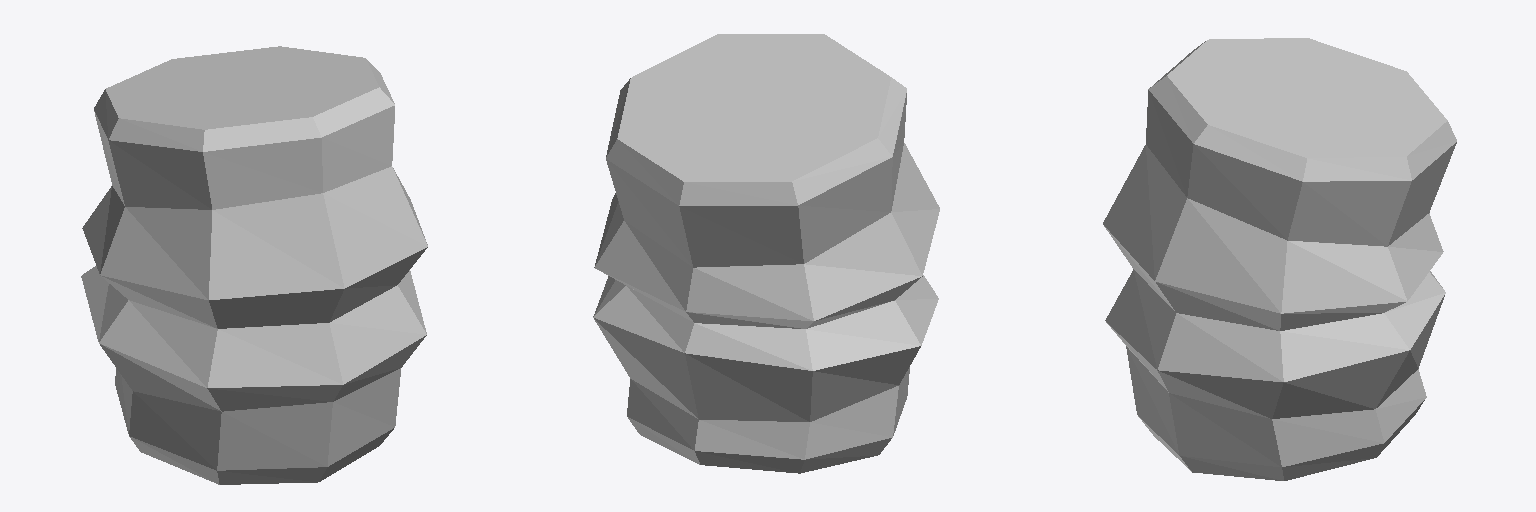
File: Trash1Inverse.obj
The picture shows the model from 3 angles: view 1: azimuth 30°, elevation 25°; view 2: azimuth 150°, elevation 25°; view 3: azimuth 270°, elevation 25°; orthographic projection.
Parts seen in each view (by area): view 1: Cylinder; view 2: Cylinder; view 3: Cylinder.
Boxes of the visible parts, <box> form: Cylinder: <box>81,46,427,484</box>; Cylinder: <box>593,34,939,473</box>; Cylinder: <box>1103,38,1456,480</box>.
Size of the model in its own units: 2.2 by 2.44 by 2.18.